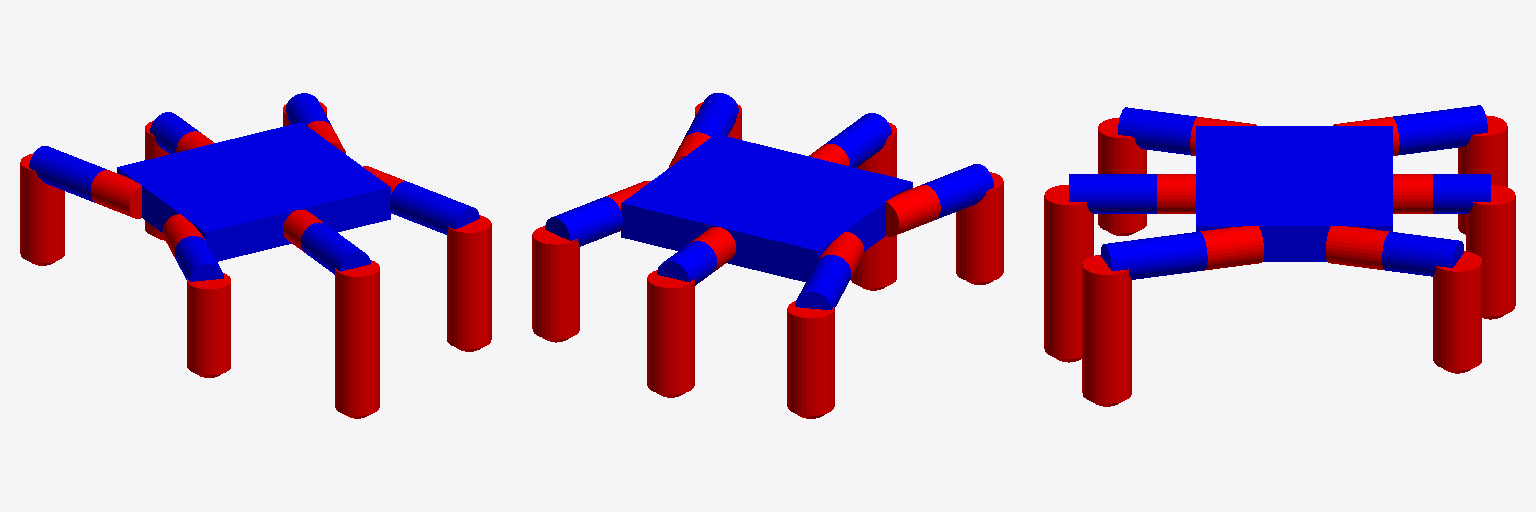
--- Render facts (derived) ---
3 views of the same robot in one strip: view 1: azimuth 30°, elevation 25°; view 2: azimuth 150°, elevation 25°; view 3: azimuth 270°, elevation 25° (orthographic).
Robot: pexod — 19 links, 18 joints (18 revolute); root link base_link; default pose: every joint at zero.
Visible links, largest first — view 1: base_link, leg_4_3, leg_3_3, leg_5_3, leg_0_3, leg_3_2, leg_0_2, leg_4_2, leg_0_1, leg_5_2, leg_1_2, leg_2_2 (+3 smaller); view 2: base_link, leg_1_3, leg_0_3, leg_2_3, leg_5_3, leg_4_3, leg_2_2, leg_5_2, leg_0_2, leg_5_1, leg_4_2, leg_1_2 (+5 smaller); view 3: base_link, leg_4_3, leg_3_3, leg_2_3, leg_1_3, leg_3_2, leg_0_2, leg_4_2, leg_5_3, leg_2_2, leg_5_2, leg_0_3 (+5 smaller).
Link boxes in pixels (left/top/right/bottom): base_link: left=117, top=122, right=390, bottom=261; leg_4_3: left=335, top=260, right=379, bottom=418; leg_3_3: left=447, top=215, right=491, bottom=351; leg_5_3: left=187, top=273, right=230, bottom=377; leg_0_3: left=20, top=153, right=64, bottom=265; leg_3_2: left=389, top=181, right=479, bottom=234; leg_0_2: left=29, top=146, right=106, bottom=202; leg_4_2: left=301, top=222, right=370, bottom=274; leg_0_1: left=90, top=170, right=141, bottom=218; leg_5_2: left=174, top=236, right=223, bottom=281; leg_1_2: left=150, top=112, right=200, bottom=153; leg_2_2: left=285, top=93, right=331, bottom=125; base_link: left=621, top=134, right=912, bottom=281; leg_1_3: left=647, top=270, right=694, bottom=397; leg_0_3: left=787, top=301, right=834, bottom=418; leg_2_3: left=532, top=226, right=579, bottom=342; leg_5_3: left=956, top=172, right=1003, bottom=284; leg_4_3: left=851, top=122, right=896, bottom=290; leg_2_2: left=545, top=197, right=622, bottom=246; leg_5_2: left=922, top=164, right=993, bottom=219; leg_0_2: left=795, top=255, right=850, bottom=310; leg_5_1: left=886, top=185, right=940, bottom=236; leg_4_2: left=824, top=113, right=891, bottom=167; leg_1_2: left=657, top=241, right=716, bottom=285; base_link: left=1196, top=126, right=1392, bottom=261; leg_4_3: left=1044, top=185, right=1093, bottom=362; leg_3_3: left=1082, top=255, right=1131, bottom=406; leg_2_3: left=1433, top=251, right=1481, bottom=373; leg_1_3: left=1466, top=185, right=1515, bottom=319; leg_3_2: left=1100, top=232, right=1207, bottom=279; leg_0_2: left=1393, top=105, right=1487, bottom=155; leg_4_2: left=1069, top=174, right=1156, bottom=213; leg_5_3: left=1098, top=117, right=1146, bottom=235; leg_2_2: left=1382, top=232, right=1463, bottom=276; leg_5_2: left=1118, top=107, right=1196, bottom=155; leg_0_3: left=1458, top=115, right=1507, bottom=234.
Bounding box of the posed robot: 0.383 × 0.4777 × 0.205 m (x, y, z).
Geometry: primitives only (box / cylinder / sphere), no mesh files.

robot.urdf — pexod:
<?xml version="1.0" ?>
<!-- =================================================================================== -->
<!-- |    This document was autogenerated by xacro from pexod.xacro                    | -->
<!-- |    EDITING THIS FILE BY HAND IS NOT RECOMMENDED                                 | -->
<!-- =================================================================================== -->
<robot name="pexod" xmlns:xacro="http://www.ros.org/wiki/xacro">
  <!-- <xacro:include filename="$(find pexod_description)/urdf/pexod_control.xacro" /> -->
  <!-- MATERIALS -->
  <material name="Blue">
    <color rgba="0 0 1 1"/>
  </material>
  <material name="Red">
    <color rgba="1 0 0 1"/>
  </material>
  <material name="Green">
    <color rgba="0 1 0 1"/>
  </material>
  <material name="Yellow">
    <color rgba="1 1 0 1"/>
  </material>
  <material name="LightGrey">
    <color rgba="0.6 0.6 0.6 1.0"/>
  </material>
  <!-- END OF MATERIALS -->
  <!-- XACRO MACROS FOR VISUALS AND COLLISIONS -->
  <!-- END OF XACRO MACROS -->
  <!-- TORSO -->
  <link name="base_link">
    <visual>
      <origin rpy="0 0 0" xyz="0 0 0"/>
      <geometry>
        <box size="0.24 0.2 0.04"/>
      </geometry>
      <material name="Blue"/>
    </visual>
    <collision>
      <origin rpy="0 0 0" xyz="0 0 0"/>
      <geometry>
        <box size="0.24 0.2 0.04"/>
      </geometry>
    </collision>
    <inertial>
      <!-- CENTER OF MASS -->
      <origin rpy="0 0 0" xyz="0 0 0"/>
      <mass value="1.031"/>
      <!-- box inertia: 1/12*m(y^2+z^2), ... -->
      <inertia ixx="0.00357413333333" ixy="0" ixz="0" iyy="0.00508626666667" iyz="0" izz="0.00838546666667"/>
    </inertial>
  </link>
  <!-- XACRO MACRO FOR LEGS LINKS/JOINTS -->
  <!-- END OF LEG LINKS/JOINTS -->
  <joint name="body_leg_2" type="revolute">
    <parent link="base_link"/>
    <child link="leg_2_1"/>
    <limit effort="30.0" lower="-1.57079632679" upper="1.57079632679" velocity="7.0"/>
    <origin rpy="0 0 -0.3" xyz="0.11 0.04 0"/>
    <!-- <xacro:if value="${index == 5 or index == 4 or index == 3}">
                <axis xyz="0 0 1"/>
            </xacro:if>
            <xacro:if value="${index == 2 or index == 1 or index == 0}"> -->
    <axis xyz="0 0 1"/>
    <!-- </xacro:if> -->
    <dynamics damping="0.0"/>
  </joint>
  <link name="leg_2_1">
    <visual>
      <origin rpy="1.57079632679 0 0" xyz="0.01 0.03 0"/>
      <geometry>
        <cylinder length="0.06" radius="0.02"/>
      </geometry>
      <material name="Red"/>
    </visual>
    <collision>
      <origin rpy="1.57079632679 0 0" xyz="0.01 0.03 0"/>
      <geometry>
        <box size="0.02 0.02 0.06"/>
      </geometry>
    </collision>
    <inertial>
      <!-- CENTER OF MASS -->
      <origin rpy="1.57079632679 0 0" xyz="0.01 0.03 0"/>
      <mass value="0.02"/>
      <!-- box inertia: 1/12*m(y^2+z^2), ... -->
      <inertia ixx="6.66666666667e-06" ixy="0" ixz="0" iyy="6.66666666667e-06" iyz="0" izz="1.33333333333e-06"/>
    </inertial>
  </link>
  <joint name="leg_2_1_2" type="revolute">
    <parent link="leg_2_1"/>
    <child link="leg_2_2"/>
    <limit effort="30.0" lower="-0.78539816339" upper="0.78539816339" velocity="7.0"/>
    <origin rpy="0 0 0" xyz="0 0.06 0"/>
    <axis xyz="1 0 0"/>
    <dynamics damping="0.0"/>
  </joint>
  <link name="leg_2_2">
    <visual>
      <origin rpy="1.57079632679 0 0" xyz="0.01 0.0375440050266 0"/>
      <geometry>
        <cylinder length="0.0750880100532" radius="0.02"/>
      </geometry>
      <material name="Blue"/>
    </visual>
    <collision>
      <origin rpy="1.57079632679 0 0" xyz="0.01 0.0375440050266 0"/>
      <geometry>
        <box size="0.02 0.02 0.0750880100532"/>
      </geometry>
    </collision>
    <inertial>
      <!-- CENTER OF MASS -->
      <origin rpy="1.57079632679 0 0" xyz="0.01 0.0375440050266 0"/>
      <mass value="0.184"/>
      <!-- box inertia: 1/12*m(y^2+z^2), ... -->
      <inertia ixx="9.25858752242e-05" ixy="0" ixz="0" iyy="9.25858752242e-05" iyz="0" izz="1.22666666667e-05"/>
    </inertial>
  </link>
  <joint name="leg_2_2_3" type="revolute">
    <parent link="leg_2_2"/>
    <child link="leg_2_3"/>
    <limit effort="30.0" lower="-0.78539816339" upper="0.78539816339" velocity="7.0"/>
    <origin rpy="-1.57079632679 0 0" xyz="0 0.0750880100532 0"/>
    <axis xyz="-1 0 0"/>
    <dynamics damping="0.0"/>
  </joint>
  <link name="leg_2_3">
    <visual>
      <origin rpy="1.57079632679 0 0" xyz="0.0125 0.055322511247 0"/>
      <geometry>
        <cylinder length="0.110645022494" radius="0.025"/>
      </geometry>
      <material name="Red"/>
    </visual>
    <visual>
      <origin rpy="1.57079632679 0 0" xyz="0.0125 0.098145022494 0"/>
      <geometry>
        <sphere radius="0.025"/>
      </geometry>
      <material name="Red"/>
    </visual>
    <collision>
      <origin rpy="1.57079632679 0 0" xyz="0.0125 0.055322511247 0"/>
      <geometry>
        <box size="0.025 0.025 0.110645022494"/>
      </geometry>
    </collision>
    <collision>
      <origin rpy="1.57079632679 0 0" xyz="0.0125 0.098145022494 0"/>
      <geometry>
        <sphere radius="0.025"/>
      </geometry>
      <material name="Red"/>
    </collision>
    <inertial>
      <!-- CENTER OF MASS -->
      <origin rpy="1.57079632679 0 0" xyz="0.0125 0.055322511247 0"/>
      <mass value="0.04"/>
      <!-- box inertia: 1/12*m(y^2+z^2), ... -->
      <inertia ixx="4.2891070009e-05" ixy="0" ixz="0" iyy="4.2891070009e-05" iyz="0" izz="4.16666666667e-06"/>
    </inertial>
  </link>
  <joint name="body_leg_3" type="revolute">
    <parent link="base_link"/>
    <child link="leg_3_1"/>
    <limit effort="30.0" lower="-1.57079632679" upper="1.57079632679" velocity="7.0"/>
    <origin rpy="0 0 0.3" xyz="0.11 -0.04 0"/>
    <!-- <xacro:if value="${index == 5 or index == 4 or index == 3}">
                <axis xyz="0 0 1"/>
            </xacro:if>
            <xacro:if value="${index == 2 or index == 1 or index == 0}"> -->
    <axis xyz="0 0 1"/>
    <!-- </xacro:if> -->
    <dynamics damping="0.0"/>
  </joint>
  <link name="leg_3_1">
    <visual>
      <origin rpy="1.57079632679 0 0" xyz="0.01 -0.03 0"/>
      <geometry>
        <cylinder length="0.06" radius="0.02"/>
      </geometry>
      <material name="Red"/>
    </visual>
    <collision>
      <origin rpy="1.57079632679 0 0" xyz="0.01 -0.03 0"/>
      <geometry>
        <box size="0.02 0.02 0.06"/>
      </geometry>
    </collision>
    <inertial>
      <!-- CENTER OF MASS -->
      <origin rpy="1.57079632679 0 0" xyz="0.01 -0.03 0"/>
      <mass value="0.02"/>
      <!-- box inertia: 1/12*m(y^2+z^2), ... -->
      <inertia ixx="6.66666666667e-06" ixy="0" ixz="0" iyy="6.66666666667e-06" iyz="0" izz="1.33333333333e-06"/>
    </inertial>
  </link>
  <joint name="leg_3_1_2" type="revolute">
    <parent link="leg_3_1"/>
    <child link="leg_3_2"/>
    <limit effort="30.0" lower="-0.78539816339" upper="0.78539816339" velocity="7.0"/>
    <origin rpy="0 0 0" xyz="0 -0.06 0"/>
    <axis xyz="-1 0 0"/>
    <dynamics damping="0.0"/>
  </joint>
  <link name="leg_3_2">
    <visual>
      <origin rpy="1.57079632679 0 0" xyz="0.01 -0.050678428172 0"/>
      <geometry>
        <cylinder length="0.101356856344" radius="0.02"/>
      </geometry>
      <material name="Blue"/>
    </visual>
    <collision>
      <origin rpy="1.57079632679 0 0" xyz="0.01 -0.050678428172 0"/>
      <geometry>
        <box size="0.02 0.02 0.101356856344"/>
      </geometry>
    </collision>
    <inertial>
      <!-- CENTER OF MASS -->
      <origin rpy="1.57079632679 0 0" xyz="0.01 -0.050678428172 0"/>
      <mass value="0.184"/>
      <!-- box inertia: 1/12*m(y^2+z^2), ... -->
      <inertia ixx="0.000163655922362" ixy="0" ixz="0" iyy="0.000163655922362" iyz="0" izz="1.22666666667e-05"/>
    </inertial>
  </link>
  <joint name="leg_3_2_3" type="revolute">
    <parent link="leg_3_2"/>
    <child link="leg_3_3"/>
    <limit effort="30.0" lower="-0.78539816339" upper="0.78539816339" velocity="7.0"/>
    <origin rpy="1.57079632679 0 0" xyz="0 -0.101356856344 0"/>
    <axis xyz="1 0 0"/>
    <dynamics damping="0.0"/>
  </joint>
  <link name="leg_3_3">
    <visual>
      <origin rpy="1.57079632679 0 0" xyz="0.0125 -0.0721036225545 0"/>
      <geometry>
        <cylinder length="0.144207245109" radius="0.025"/>
      </geometry>
      <material name="Red"/>
    </visual>
    <visual>
      <origin rpy="1.57079632679 0 0" xyz="0.0125 -0.131707245109 0"/>
      <geometry>
        <sphere radius="0.025"/>
      </geometry>
      <material name="Red"/>
    </visual>
    <collision>
      <origin rpy="1.57079632679 0 0" xyz="0.0125 -0.0721036225545 0"/>
      <geometry>
        <box size="0.025 0.025 0.144207245109"/>
      </geometry>
    </collision>
    <collision>
      <origin rpy="1.57079632679 0 0" xyz="0.0125 -0.131707245109 0"/>
      <geometry>
        <sphere radius="0.025"/>
      </geometry>
      <material name="Red"/>
    </collision>
    <inertial>
      <!-- CENTER OF MASS -->
      <origin rpy="1.57079632679 0 0" xyz="0.0125 -0.0721036225545 0"/>
      <mass value="0.04"/>
      <!-- box inertia: 1/12*m(y^2+z^2), ... -->
      <inertia ixx="7.14024318064e-05" ixy="0" ixz="0" iyy="7.14024318064e-05" iyz="0" izz="4.16666666667e-06"/>
    </inertial>
  </link>
  <joint name="body_leg_0" type="revolute">
    <parent link="base_link"/>
    <child link="leg_0_1"/>
    <limit effort="30.0" lower="-1.57079632679" upper="1.57079632679" velocity="7.0"/>
    <origin rpy="0 0 0.3" xyz="-0.13 0.04 0"/>
    <!-- <xacro:if value="${index == 5 or index == 4 or index == 3}">
                <axis xyz="0 0 1"/>
            </xacro:if>
            <xacro:if value="${index == 2 or index == 1 or index == 0}"> -->
    <axis xyz="0 0 1"/>
    <!-- </xacro:if> -->
    <dynamics damping="0.0"/>
  </joint>
  <link name="leg_0_1">
    <visual>
      <origin rpy="1.57079632679 0 0" xyz="0.01 0.03 0"/>
      <geometry>
        <cylinder length="0.06" radius="0.02"/>
      </geometry>
      <material name="Red"/>
    </visual>
    <collision>
      <origin rpy="1.57079632679 0 0" xyz="0.01 0.03 0"/>
      <geometry>
        <box size="0.02 0.02 0.06"/>
      </geometry>
    </collision>
    <inertial>
      <!-- CENTER OF MASS -->
      <origin rpy="1.57079632679 0 0" xyz="0.01 0.03 0"/>
      <mass value="0.02"/>
      <!-- box inertia: 1/12*m(y^2+z^2), ... -->
      <inertia ixx="6.66666666667e-06" ixy="0" ixz="0" iyy="6.66666666667e-06" iyz="0" izz="1.33333333333e-06"/>
    </inertial>
  </link>
  <joint name="leg_0_1_2" type="revolute">
    <parent link="leg_0_1"/>
    <child link="leg_0_2"/>
    <limit effort="30.0" lower="-0.78539816339" upper="0.78539816339" velocity="7.0"/>
    <origin rpy="0 0 0" xyz="0 0.06 0"/>
    <axis xyz="1 0 0"/>
    <dynamics damping="0.0"/>
  </joint>
  <link name="leg_0_2">
    <visual>
      <origin rpy="1.57079632679 0 0" xyz="0.01 0.0469732482141 0"/>
      <geometry>
        <cylinder length="0.0939464964281" radius="0.02"/>
      </geometry>
      <material name="Blue"/>
    </visual>
    <collision>
      <origin rpy="1.57079632679 0 0" xyz="0.01 0.0469732482141 0"/>
      <geometry>
        <box size="0.02 0.02 0.0939464964281"/>
      </geometry>
    </collision>
    <inertial>
      <!-- CENTER OF MASS -->
      <origin rpy="1.57079632679 0 0" xyz="0.01 0.0469732482141 0"/>
      <mass value="0.184"/>
      <!-- box inertia: 1/12*m(y^2+z^2), ... -->
      <inertia ixx="0.000141464477597" ixy="0" ixz="0" iyy="0.000141464477597" iyz="0" izz="1.22666666667e-05"/>
    </inertial>
  </link>
  <joint name="leg_0_2_3" type="revolute">
    <parent link="leg_0_2"/>
    <child link="leg_0_3"/>
    <limit effort="30.0" lower="-0.78539816339" upper="0.78539816339" velocity="7.0"/>
    <origin rpy="-1.57079632679 0 0" xyz="0 0.0939464964281 0"/>
    <axis xyz="-1 0 0"/>
    <dynamics damping="0.0"/>
  </joint>
  <link name="leg_0_3">
    <visual>
      <origin rpy="1.57079632679 0 0" xyz="0.0125 0.056930154468 0"/>
      <geometry>
        <cylinder length="0.113860308936" radius="0.025"/>
      </geometry>
      <material name="Red"/>
    </visual>
    <visual>
      <origin rpy="1.57079632679 0 0" xyz="0.0125 0.101360308936 0"/>
      <geometry>
        <sphere radius="0.025"/>
      </geometry>
      <material name="Red"/>
    </visual>
    <collision>
      <origin rpy="1.57079632679 0 0" xyz="0.0125 0.056930154468 0"/>
      <geometry>
        <box size="0.025 0.025 0.113860308936"/>
      </geometry>
    </collision>
    <collision>
      <origin rpy="1.57079632679 0 0" xyz="0.0125 0.101360308936 0"/>
      <geometry>
        <sphere radius="0.025"/>
      </geometry>
      <material name="Red"/>
    </collision>
    <inertial>
      <!-- CENTER OF MASS -->
      <origin rpy="1.57079632679 0 0" xyz="0.0125 0.056930154468 0"/>
      <mass value="0.04"/>
      <!-- box inertia: 1/12*m(y^2+z^2), ... -->
      <inertia ixx="4.529723317e-05" ixy="0" ixz="0" iyy="4.529723317e-05" iyz="0" izz="4.16666666667e-06"/>
    </inertial>
  </link>
  <joint name="body_leg_5" type="revolute">
    <parent link="base_link"/>
    <child link="leg_5_1"/>
    <limit effort="30.0" lower="-1.57079632679" upper="1.57079632679" velocity="7.0"/>
    <origin rpy="0 0 -0.3" xyz="-0.13 -0.04 0"/>
    <!-- <xacro:if value="${index == 5 or index == 4 or index == 3}">
                <axis xyz="0 0 1"/>
            </xacro:if>
            <xacro:if value="${index == 2 or index == 1 or index == 0}"> -->
    <axis xyz="0 0 1"/>
    <!-- </xacro:if> -->
    <dynamics damping="0.0"/>
  </joint>
  <link name="leg_5_1">
    <visual>
      <origin rpy="1.57079632679 0 0" xyz="0.01 -0.03 0"/>
      <geometry>
        <cylinder length="0.06" radius="0.02"/>
      </geometry>
      <material name="Red"/>
    </visual>
    <collision>
      <origin rpy="1.57079632679 0 0" xyz="0.01 -0.03 0"/>
      <geometry>
        <box size="0.02 0.02 0.06"/>
      </geometry>
    </collision>
    <inertial>
      <!-- CENTER OF MASS -->
      <origin rpy="1.57079632679 0 0" xyz="0.01 -0.03 0"/>
      <mass value="0.02"/>
      <!-- box inertia: 1/12*m(y^2+z^2), ... -->
      <inertia ixx="6.66666666667e-06" ixy="0" ixz="0" iyy="6.66666666667e-06" iyz="0" izz="1.33333333333e-06"/>
    </inertial>
  </link>
  <joint name="leg_5_1_2" type="revolute">
    <parent link="leg_5_1"/>
    <child link="leg_5_2"/>
    <limit effort="30.0" lower="-0.78539816339" upper="0.78539816339" velocity="7.0"/>
    <origin rpy="0 0 0" xyz="0 -0.06 0"/>
    <axis xyz="-1 0 0"/>
    <dynamics damping="0.0"/>
  </joint>
  <link name="leg_5_2">
    <visual>
      <origin rpy="1.57079632679 0 0" xyz="0.01 -0.0384984721516 0"/>
      <geometry>
        <cylinder length="0.0769969443031" radius="0.02"/>
      </geometry>
      <material name="Blue"/>
    </visual>
    <collision>
      <origin rpy="1.57079632679 0 0" xyz="0.01 -0.0384984721516 0"/>
      <geometry>
        <box size="0.02 0.02 0.0769969443031"/>
      </geometry>
    </collision>
    <inertial>
      <!-- CENTER OF MASS -->
      <origin rpy="1.57079632679 0 0" xyz="0.01 -0.0384984721516 0"/>
      <mass value="0.184"/>
      <!-- box inertia: 1/12*m(y^2+z^2), ... -->
      <inertia ixx="9.70374512909e-05" ixy="0" ixz="0" iyy="9.70374512909e-05" iyz="0" izz="1.22666666667e-05"/>
    </inertial>
  </link>
  <joint name="leg_5_2_3" type="revolute">
    <parent link="leg_5_2"/>
    <child link="leg_5_3"/>
    <limit effort="30.0" lower="-0.78539816339" upper="0.78539816339" velocity="7.0"/>
    <origin rpy="1.57079632679 0 0" xyz="0 -0.0769969443031 0"/>
    <axis xyz="1 0 0"/>
    <dynamics damping="0.0"/>
  </joint>
  <link name="leg_5_3">
    <visual>
      <origin rpy="1.57079632679 0 0" xyz="0.0125 -0.0533051711635 0"/>
      <geometry>
        <cylinder length="0.106610342327" radius="0.025"/>
      </geometry>
      <material name="Red"/>
    </visual>
    <visual>
      <origin rpy="1.57079632679 0 0" xyz="0.0125 -0.094110342327 0"/>
      <geometry>
        <sphere radius="0.025"/>
      </geometry>
      <material name="Red"/>
    </visual>
    <collision>
      <origin rpy="1.57079632679 0 0" xyz="0.0125 -0.0533051711635 0"/>
      <geometry>
        <box size="0.025 0.025 0.106610342327"/>
      </geometry>
    </collision>
    <collision>
      <origin rpy="1.57079632679 0 0" xyz="0.0125 -0.094110342327 0"/>
      <geometry>
        <sphere radius="0.025"/>
      </geometry>
      <material name="Red"/>
    </collision>
    <inertial>
      <!-- CENTER OF MASS -->
      <origin rpy="1.57079632679 0 0" xyz="0.0125 -0.0533051711635 0"/>
      <mass value="0.04"/>
      <!-- box inertia: 1/12*m(y^2+z^2), ... -->
      <inertia ixx="3.99692169703e-05" ixy="0" ixz="0" iyy="3.99692169703e-05" iyz="0" izz="4.16666666667e-06"/>
    </inertial>
  </link>
  <joint name="body_leg_1" type="revolute">
    <parent link="base_link"/>
    <child link="leg_1_1"/>
    <limit effort="30.0" lower="-1.57079632679" upper="1.57079632679" velocity="7.0"/>
    <origin rpy="0 0 0" xyz="-0.01 0.08 0"/>
    <!-- <xacro:if value="${index == 5 or index == 4 or index == 3}">
                <axis xyz="0 0 1"/>
            </xacro:if>
            <xacro:if value="${index == 2 or index == 1 or index == 0}"> -->
    <axis xyz="0 0 1"/>
    <!-- </xacro:if> -->
    <dynamics damping="0.0"/>
  </joint>
  <link name="leg_1_1">
    <visual>
      <origin rpy="1.57079632679 0 0" xyz="0.01 0.03 0"/>
      <geometry>
        <cylinder length="0.06" radius="0.02"/>
      </geometry>
      <material name="Red"/>
    </visual>
    <collision>
      <origin rpy="1.57079632679 0 0" xyz="0.01 0.03 0"/>
      <geometry>
        <box size="0.02 0.02 0.06"/>
      </geometry>
    </collision>
    <inertial>
      <!-- CENTER OF MASS -->
      <origin rpy="1.57079632679 0 0" xyz="0.01 0.03 0"/>
      <mass value="0.02"/>
      <!-- box inertia: 1/12*m(y^2+z^2), ... -->
      <inertia ixx="6.66666666667e-06" ixy="0" ixz="0" iyy="6.66666666667e-06" iyz="0" izz="1.33333333333e-06"/>
    </inertial>
  </link>
  <joint name="leg_1_1_2" type="revolute">
    <parent link="leg_1_1"/>
    <child link="leg_1_2"/>
    <limit effort="30.0" lower="-0.78539816339" upper="0.78539816339" velocity="7.0"/>
    <origin rpy="0 0 0" xyz="0 0.06 0"/>
    <axis xyz="1 0 0"/>
    <dynamics damping="0.0"/>
  </joint>
  <link name="leg_1_2">
    <visual>
      <origin rpy="1.57079632679 0 0" xyz="0.01 0.029393913102 0"/>
      <geometry>
        <cylinder length="0.0587878262039" radius="0.02"/>
      </geometry>
      <material name="Blue"/>
    </visual>
    <collision>
      <origin rpy="1.57079632679 0 0" xyz="0.01 0.029393913102 0"/>
      <geometry>
        <box size="0.02 0.02 0.0587878262039"/>
      </geometry>
    </collision>
    <inertial>
      <!-- CENTER OF MASS -->
      <origin rpy="1.57079632679 0 0" xyz="0.01 0.029393913102 0"/>
      <mass value="0.184"/>
      <!-- box inertia: 1/12*m(y^2+z^2), ... -->
      <inertia ixx="5.91254638166e-05" ixy="0" ixz="0" iyy="5.91254638166e-05" iyz="0" izz="1.22666666667e-05"/>
    </inertial>
  </link>
  <joint name="leg_1_2_3" type="revolute">
    <parent link="leg_1_2"/>
    <child link="leg_1_3"/>
    <limit effort="30.0" lower="-0.78539816339" upper="0.78539816339" velocity="7.0"/>
    <origin rpy="-1.57079632679 0 0" xyz="0 0.0587878262039 0"/>
    <axis xyz="-1 0 0"/>
    <dynamics damping="0.0"/>
  </joint>
  <link name="leg_1_3">
    <visual>
      <origin rpy="1.57079632679 0 0" xyz="0.0125 0.062220167316 0"/>
      <geometry>
        <cylinder length="0.124440334632" radius="0.025"/>
      </geometry>
      <material name="Red"/>
    </visual>
    <visual>
      <origin rpy="1.57079632679 0 0" xyz="0.0125 0.111940334632 0"/>
      <geometry>
        <sphere radius="0.025"/>
      </geometry>
      <material name="Red"/>
    </visual>
    <collision>
      <origin rpy="1.57079632679 0 0" xyz="0.0125 0.062220167316 0"/>
      <geometry>
        <box size="0.025 0.025 0.124440334632"/>
      </geometry>
    </collision>
    <collision>
      <origin rpy="1.57079632679 0 0" xyz="0.0125 0.111940334632 0"/>
      <geometry>
        <sphere radius="0.025"/>
      </geometry>
      <material name="Red"/>
    </collision>
    <inertial>
      <!-- CENTER OF MASS -->
      <origin rpy="1.57079632679 0 0" xyz="0.0125 0.062220167316 0"/>
      <mass value="0.04"/>
      <!-- box inertia: 1/12*m(y^2+z^2), ... -->
      <inertia ixx="5.37013229444e-05" ixy="0" ixz="0" iyy="5.37013229444e-05" iyz="0" izz="4.16666666667e-06"/>
    </inertial>
  </link>
  <joint name="body_leg_4" type="revolute">
    <parent link="base_link"/>
    <child link="leg_4_1"/>
    <limit effort="30.0" lower="-1.57079632679" upper="1.57079632679" velocity="7.0"/>
    <origin rpy="0 0 0" xyz="-0.01 -0.08 0"/>
    <!-- <xacro:if value="${index == 5 or index == 4 or index == 3}">
                <axis xyz="0 0 1"/>
            </xacro:if>
            <xacro:if value="${index == 2 or index == 1 or index == 0}"> -->
    <axis xyz="0 0 1"/>
    <!-- </xacro:if> -->
    <dynamics damping="0.0"/>
  </joint>
  <link name="leg_4_1">
    <visual>
      <origin rpy="1.57079632679 0 0" xyz="0.01 -0.03 0"/>
      <geometry>
        <cylinder length="0.06" radius="0.02"/>
      </geometry>
      <material name="Red"/>
    </visual>
    <collision>
      <origin rpy="1.57079632679 0 0" xyz="0.01 -0.03 0"/>
      <geometry>
        <box size="0.02 0.02 0.06"/>
      </geometry>
    </collision>
    <inertial>
      <!-- CENTER OF MASS -->
      <origin rpy="1.57079632679 0 0" xyz="0.01 -0.03 0"/>
      <mass value="0.02"/>
      <!-- box inertia: 1/12*m(y^2+z^2), ... -->
      <inertia ixx="6.66666666667e-06" ixy="0" ixz="0" iyy="6.66666666667e-06" iyz="0" izz="1.33333333333e-06"/>
    </inertial>
  </link>
  <joint name="leg_4_1_2" type="revolute">
    <parent link="leg_4_1"/>
    <child link="leg_4_2"/>
    <limit effort="30.0" lower="-0.78539816339" upper="0.78539816339" velocity="7.0"/>
    <origin rpy="0 0 0" xyz="0 -0.06 0"/>
    <axis xyz="-1 0 0"/>
    <dynamics damping="0.0"/>
  </joint>
  <link name="leg_4_2">
    <visual>
      <origin rpy="1.57079632679 0 0" xyz="0.01 -0.0444501773239 0"/>
      <geometry>
        <cylinder length="0.0889003546479" radius="0.02"/>
      </geometry>
      <material name="Blue"/>
    </visual>
    <collision>
      <origin rpy="1.57079632679 0 0" xyz="0.01 -0.0444501773239 0"/>
      <geometry>
        <box size="0.02 0.02 0.0889003546479"/>
      </geometry>
    </collision>
    <inertial>
      <!-- CENTER OF MASS -->
      <origin rpy="1.57079632679 0 0" xyz="0.01 -0.0444501773239 0"/>
      <mass value="0.184"/>
      <!-- box inertia: 1/12*m(y^2+z^2), ... -->
      <inertia ixx="0.000127316853533" ixy="0" ixz="0" iyy="0.000127316853533" iyz="0" izz="1.22666666667e-05"/>
    </inertial>
  </link>
  <joint name="leg_4_2_3" type="revolute">
    <parent link="leg_4_2"/>
    <child link="leg_4_3"/>
    <limit effort="30.0" lower="-0.78539816339" upper="0.78539816339" velocity="7.0"/>
    <origin rpy="1.57079632679 0 0" xyz="0 -0.0889003546479 0"/>
    <axis xyz="1 0 0"/>
    <dynamics damping="0.0"/>
  </joint>
  <link name="leg_4_3">
    <visual>
      <origin rpy="1.57079632679 0 0" xyz="0.0125 -0.086261268362 0"/>
      <geometry>
        <cylinder length="0.172522536724" radius="0.025"/>
      </geometry>
      <material name="Red"/>
    </visual>
    <visual>
      <origin rpy="1.57079632679 0 0" xyz="0.0125 -0.160022536724 0"/>
      <geometry>
        <sphere radius="0.025"/>
      </geometry>
      <material name="Red"/>
    </visual>
    <collision>
      <origin rpy="1.57079632679 0 0" xyz="0.0125 -0.086261268362 0"/>
      <geometry>
        <box size="0.025 0.025 0.172522536724"/>
      </geometry>
    </collision>
    <collision>
      <origin rpy="1.57079632679 0 0" xyz="0.0125 -0.160022536724 0"/>
      <geometry>
        <sphere radius="0.025"/>
      </geometry>
      <material name="Red"/>
    </collision>
    <inertial>
      <!-- CENTER OF MASS -->
      <origin rpy="1.57079632679 0 0" xyz="0.0125 -0.086261268362 0"/>
      <mass value="0.04"/>
      <!-- box inertia: 1/12*m(y^2+z^2), ... -->
      <inertia ixx="0.000101296752259" ixy="0" ixz="0" iyy="0.000101296752259" iyz="0" izz="4.16666666667e-06"/>
    </inertial>
  </link>
  <!-- END OF LEG LINKS/JOINTS -->
</robot>
